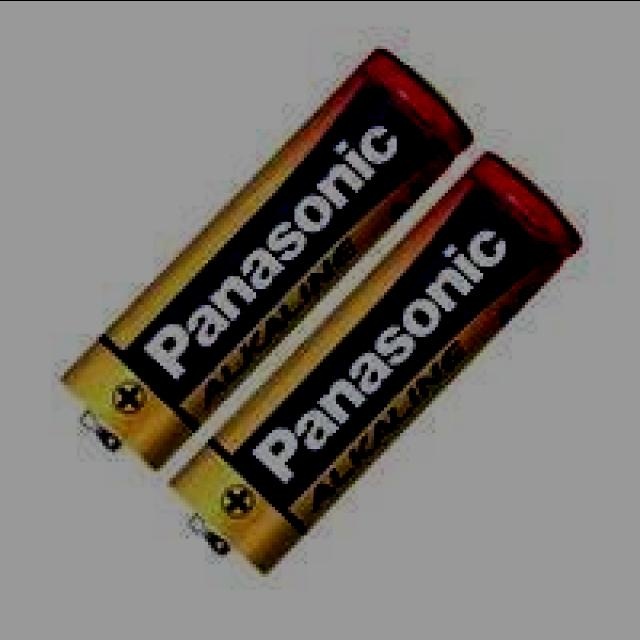AA: (56, 38, 485, 477), (162, 144, 593, 580)
